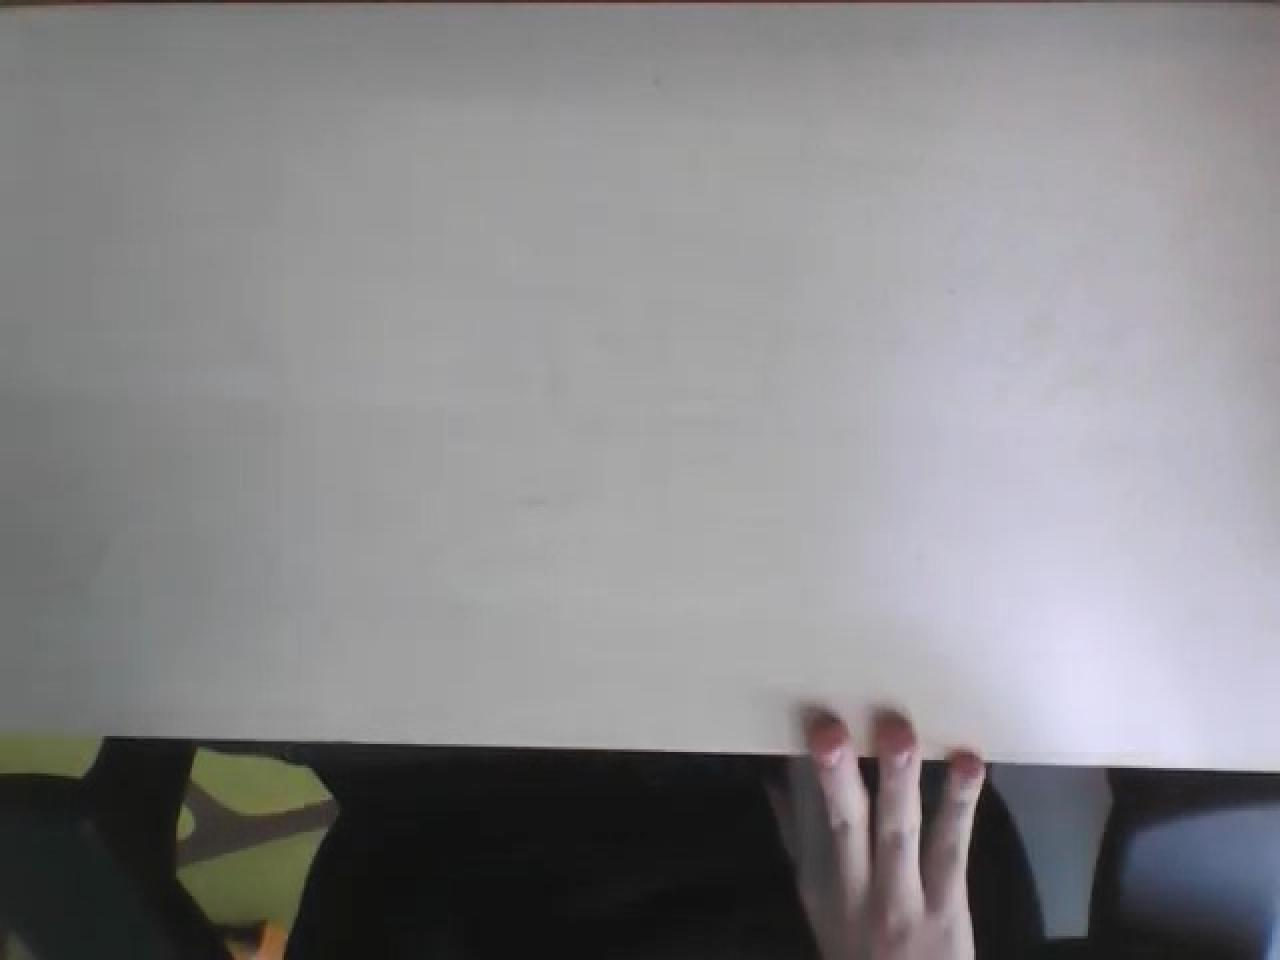100leva: (4, 8, 1278, 782), (6, 717, 1276, 960)
